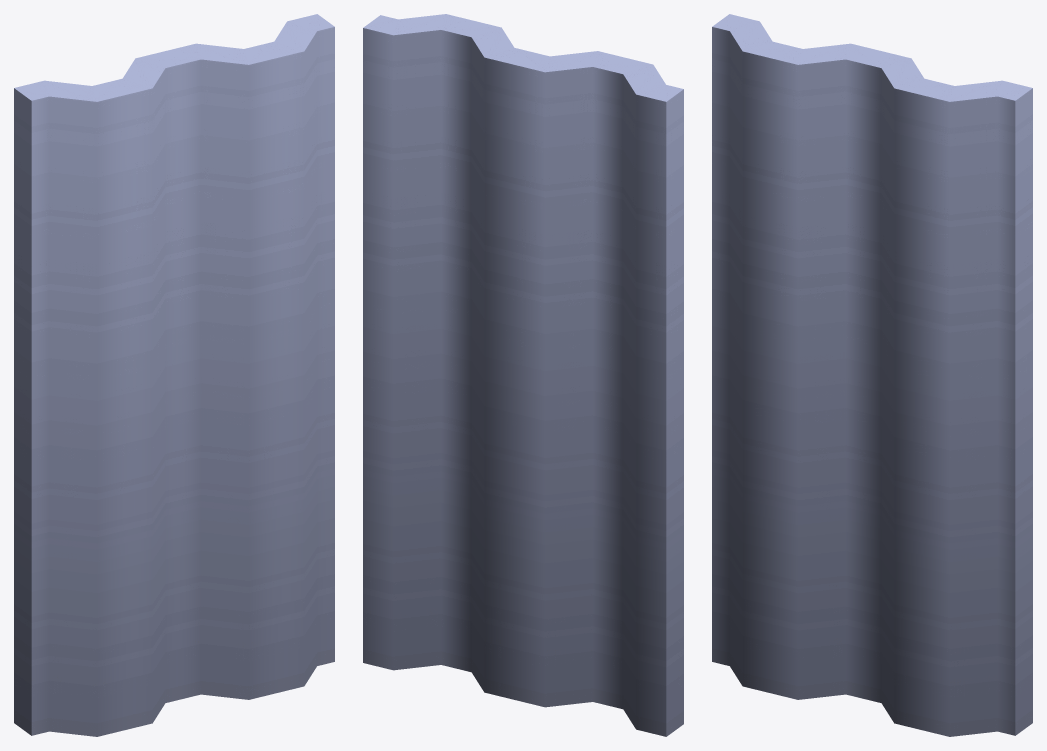
Rendered from metal-panel-narrow.glb.
3 views of the same model, side by side, from view 1: azimuth 30°, elevation 25°; view 2: azimuth 150°, elevation 25°; view 3: azimuth 330°, elevation 25° (orthographic).
Parts seen in each view (by area): view 1: metal-panel-narrow; view 2: metal-panel-narrow; view 3: metal-panel-narrow.
Part boxes in pixels (x1,y1,x2,y2): metal-panel-narrow: (14,14,334,736); metal-panel-narrow: (363,14,683,736); metal-panel-narrow: (712,14,1032,736).
Bounding box in the file's own units: 0.25 × 0.5 × 0.05.
1 material, 1 textured.
